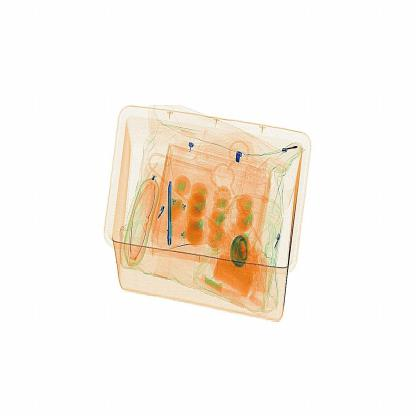pliers: (154, 173, 180, 249)
